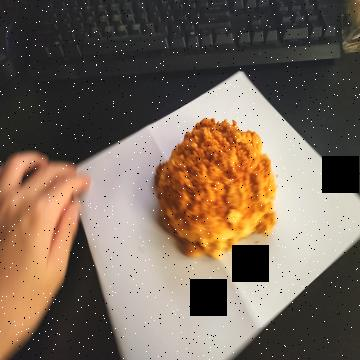soboru_bread: (154, 117, 277, 255)
